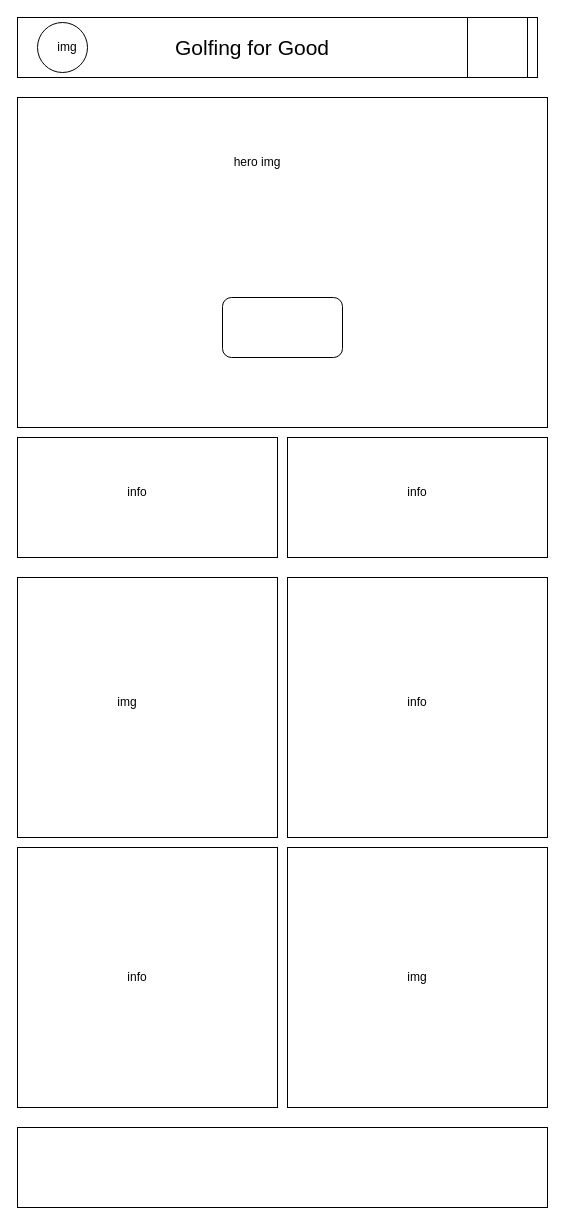
Some shapes in this 565 by 1225 pixel diagram are drawn without their labels. Each missing label, with the centre of its shape:
call to action: pixel 282 327
footer: pixel 282 1167
ham menu: pixel 497 47
